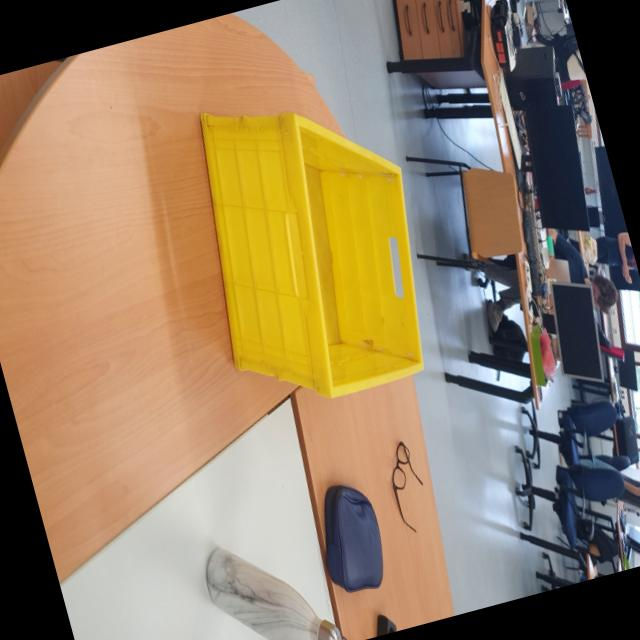box: (152, 42, 467, 436)
